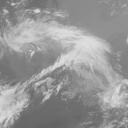cyclone: (29, 16, 99, 82)
